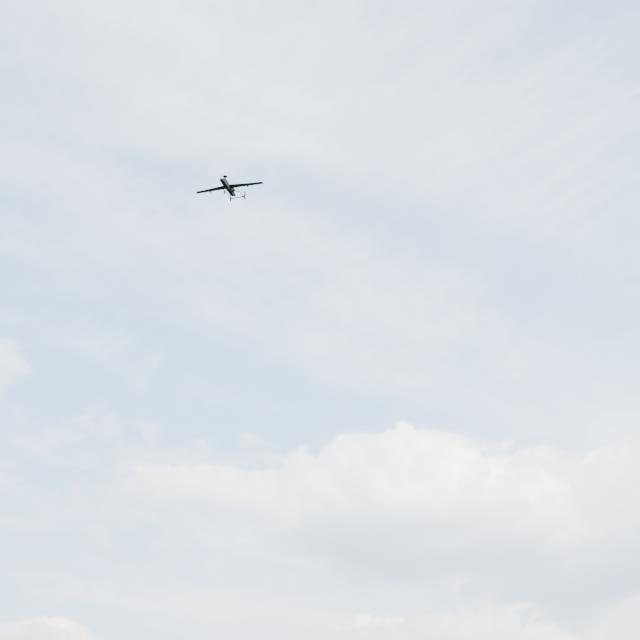Airaplan: (196, 175, 264, 202)
